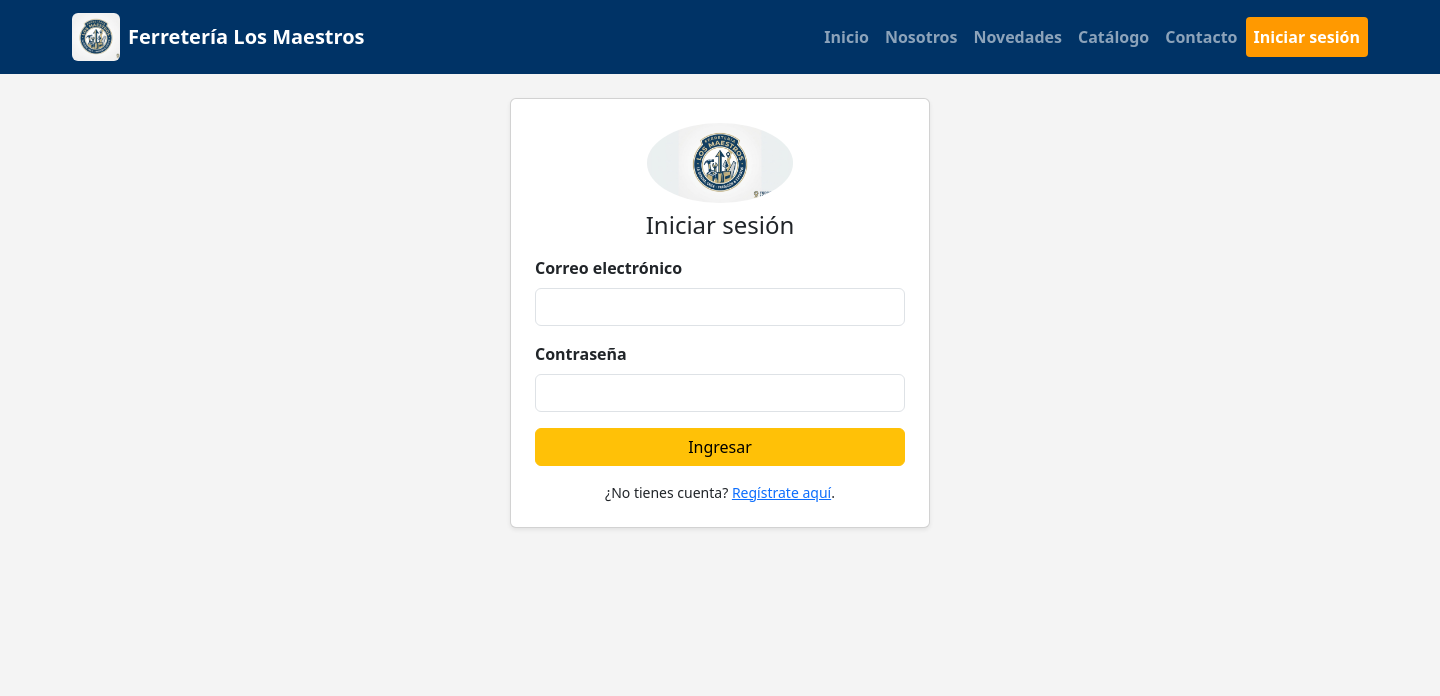
Test case: sesión › iniciar y cerrar sesión
Type "cliente@test.cl" into the field labelled "Correo electrónico". click: (720, 307)
box: [535,288,905,326]
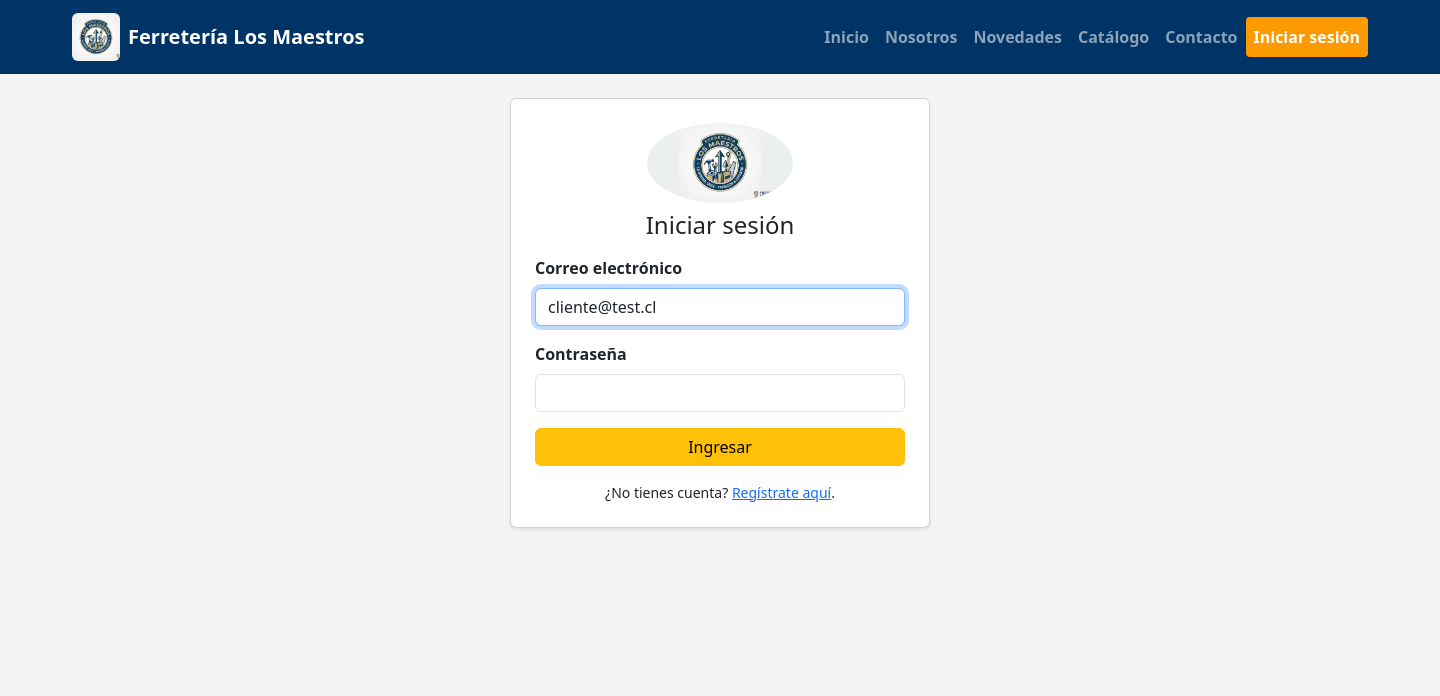
Type "clave1" into the password field labelled "Contraseña". click: (720, 393)
box: [535,374,905,412]
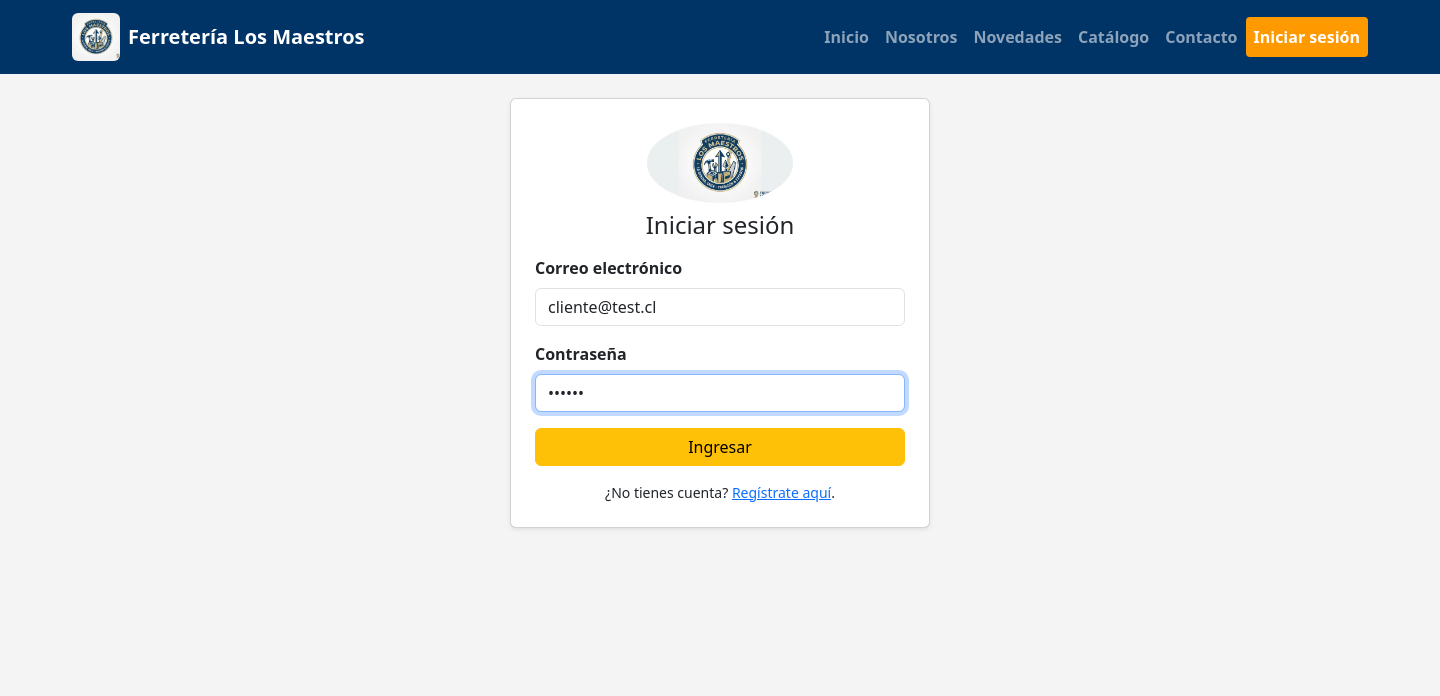
Click the button "Ingresar". click: click(720, 447)
box: [535,428,905,466]
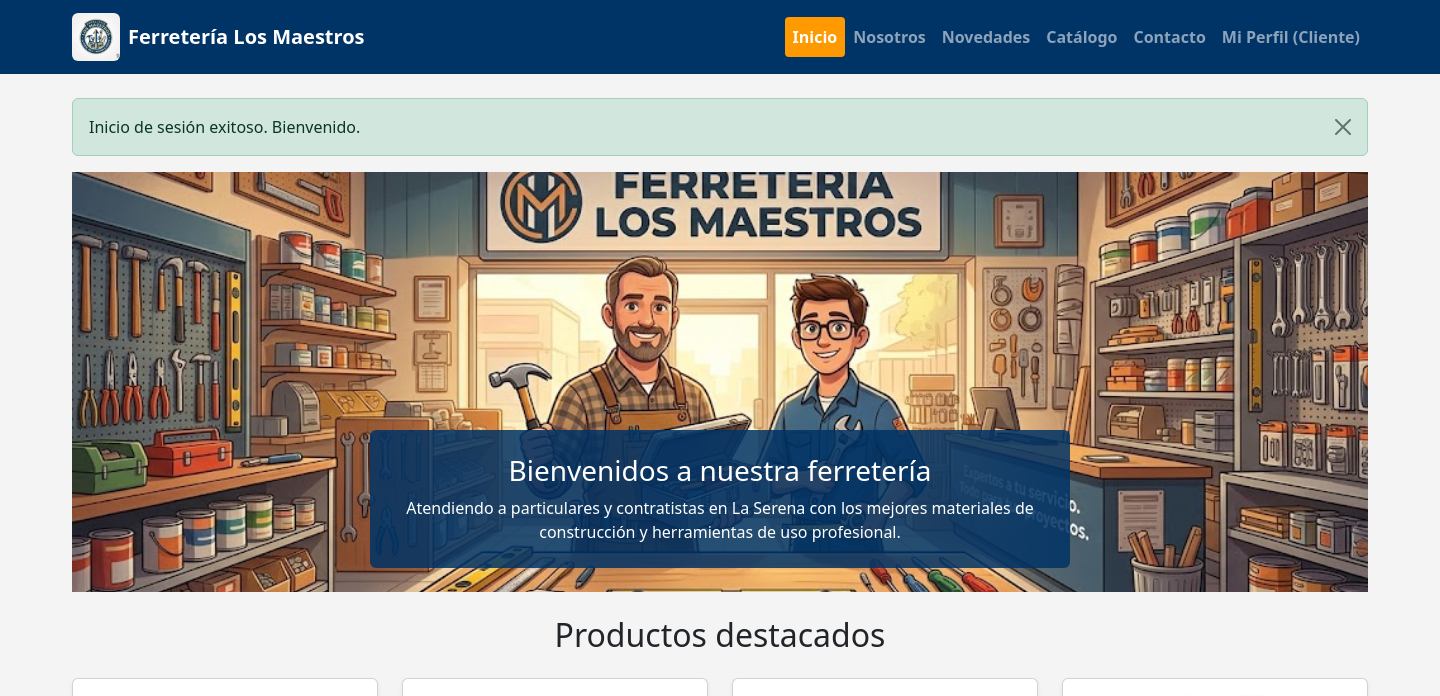
Expected: the link "Mi Perfil (Cliente)" is shown
Expected: the link "Iniciar sesión" is gone
Click the link "Mi Perfil (Cliente)". click: click(1291, 37)
box: [1222,26,1360,48]
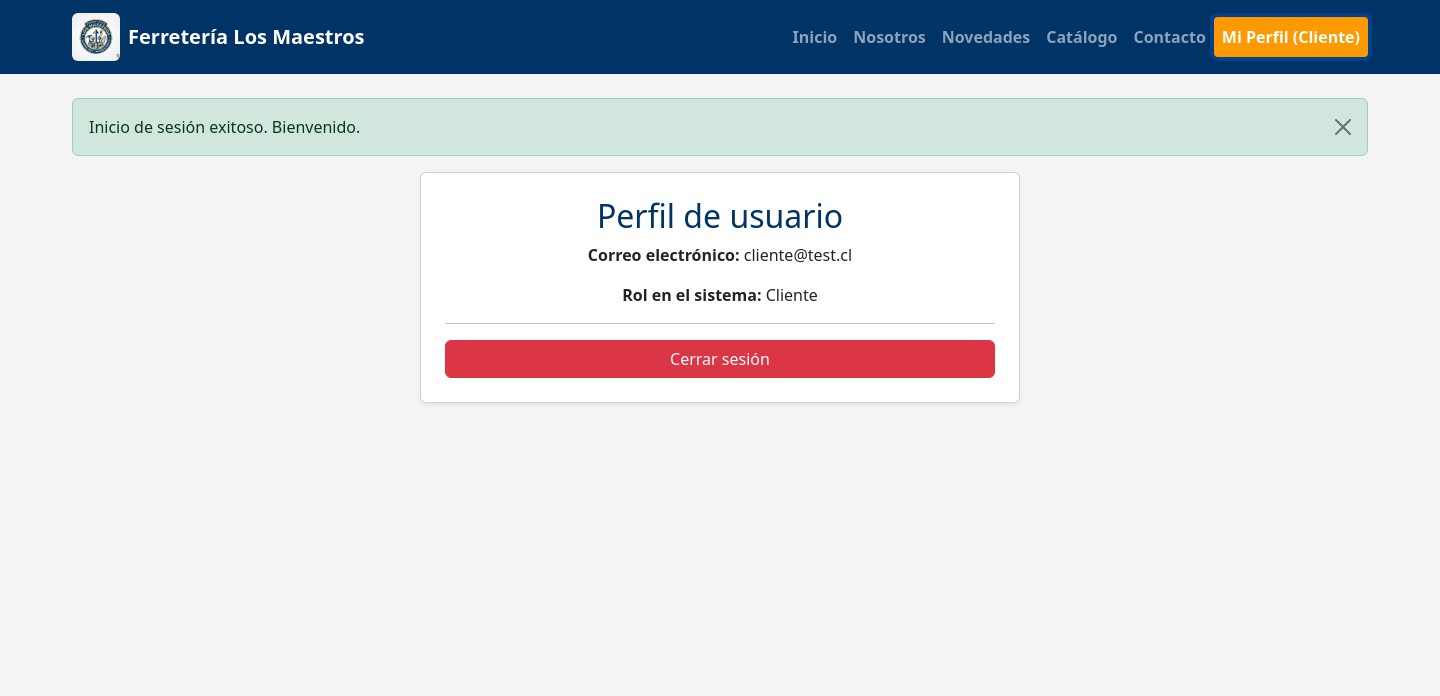
Click the button "Cerrar sesión". click: click(720, 359)
box: [445,340,995,378]
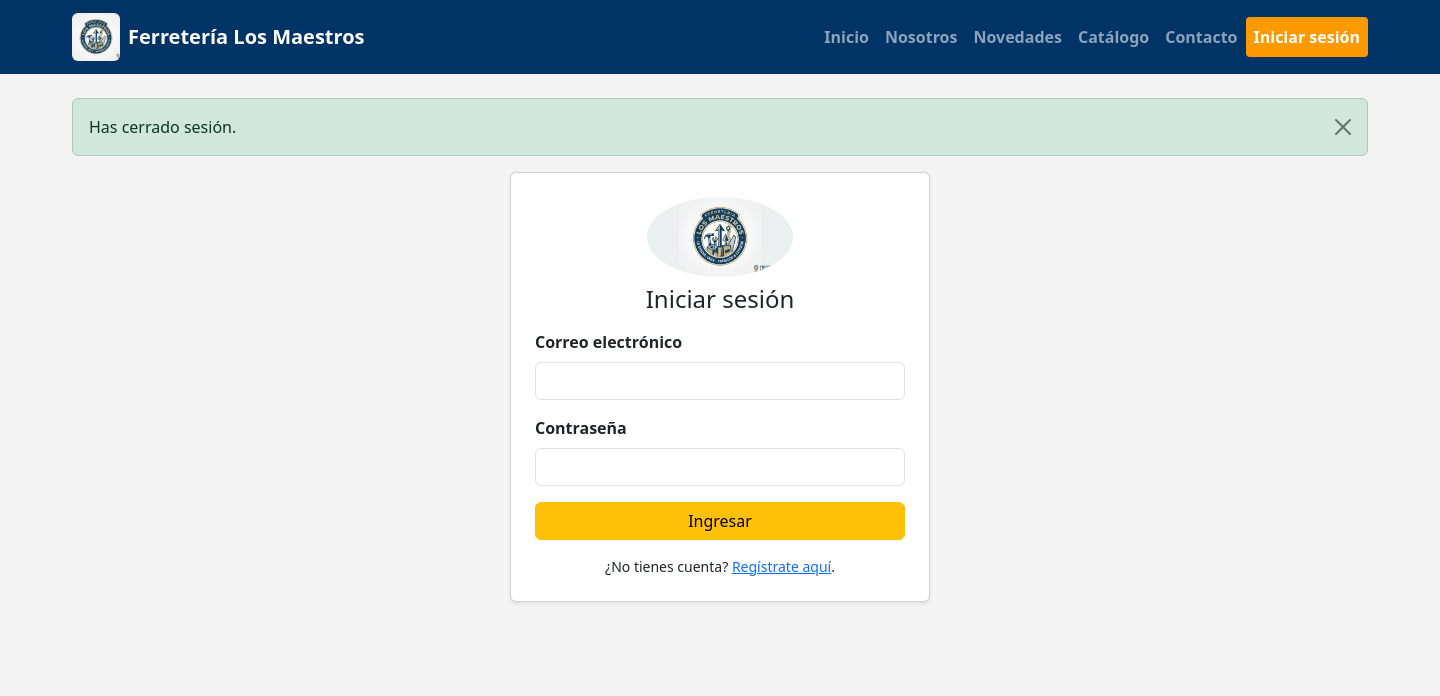
Expected: the link "Iniciar sesión" is shown, [1246,17,1368,57]
